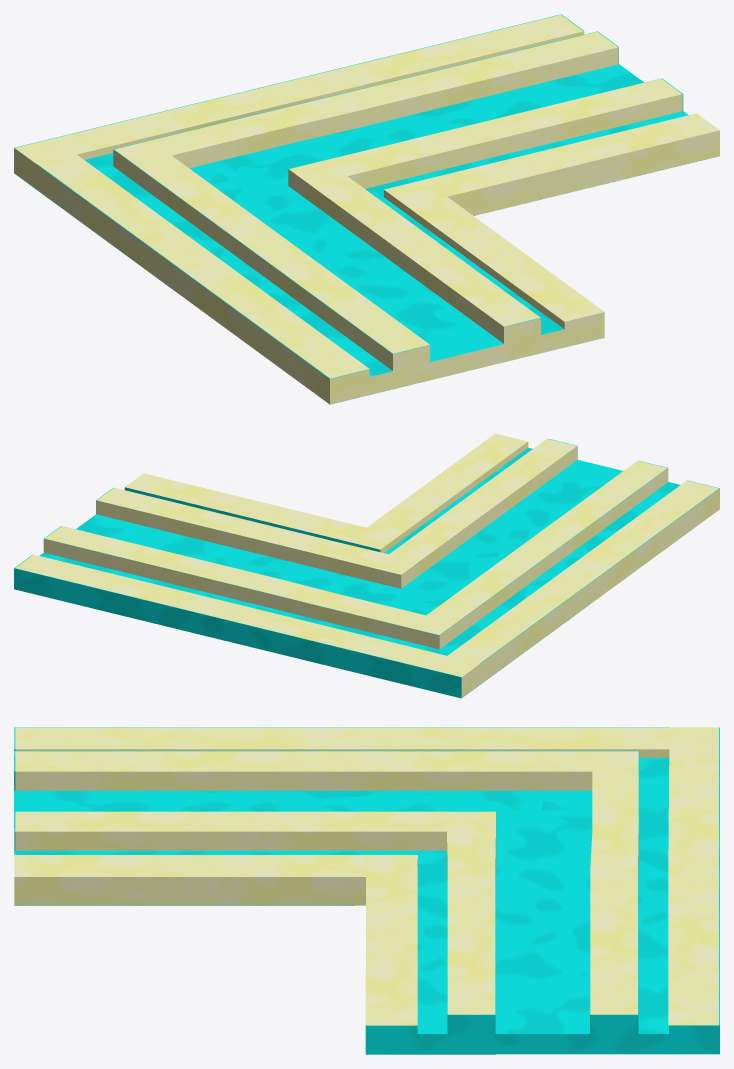
File: SM_Corner_Tile_4x4_Rails_01.fbx
The picture shows the model from 3 angles, top to bottom: view 1: azimuth 30°, elevation 25°; view 2: azimuth 150°, elevation 25°; view 3: azimuth 270°, elevation 25°; orthographic projection. The views are drawn at different scales.
Parts seen in each view (by area): view 1: SM_Corner_Tile_4x4_Rails_01; view 2: SM_Corner_Tile_4x4_Rails_01; view 3: SM_Corner_Tile_4x4_Rails_01.
Boxes of the visible parts, <box> form: SM_Corner_Tile_4x4_Rails_01: <box>14,14,719,404</box>; SM_Corner_Tile_4x4_Rails_01: <box>14,433,719,698</box>; SM_Corner_Tile_4x4_Rails_01: <box>14,727,719,1054</box>.
Size of the model in its own units: 402 by 24.91 by 402.
Materials: 1 (1 with a texture image).
